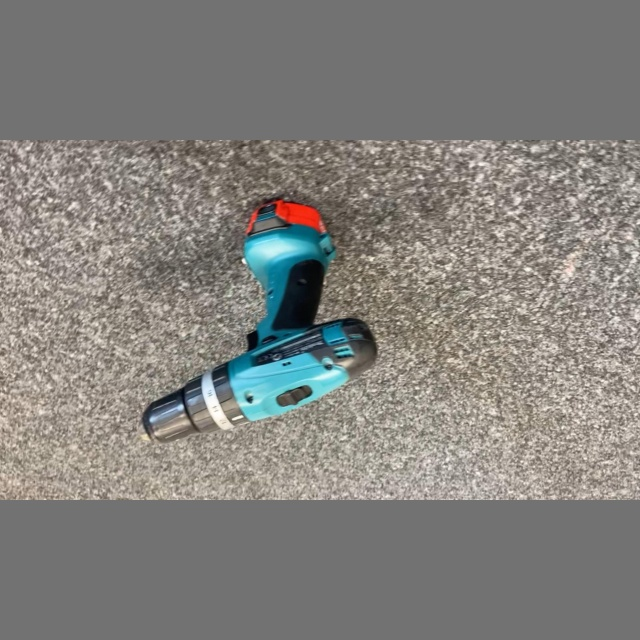drill: (133, 194, 384, 447)
